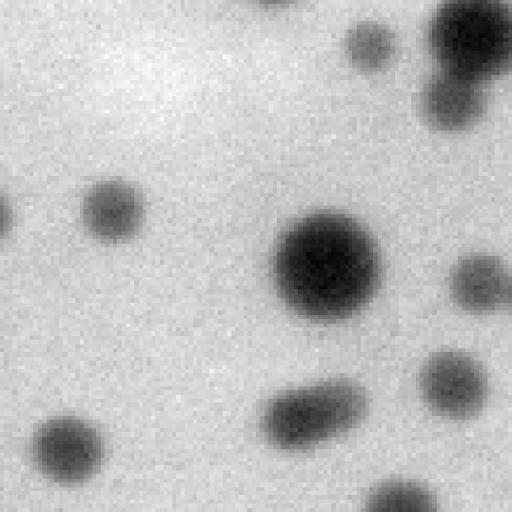Nanoparticles: (267, 204, 390, 326), (419, 0, 512, 83), (414, 342, 495, 424), (256, 378, 336, 454), (75, 176, 155, 247), (414, 69, 488, 133), (444, 251, 512, 318), (30, 414, 98, 478), (306, 371, 371, 431), (365, 467, 444, 512), (50, 430, 111, 488), (343, 19, 395, 75), (0, 192, 19, 238)
